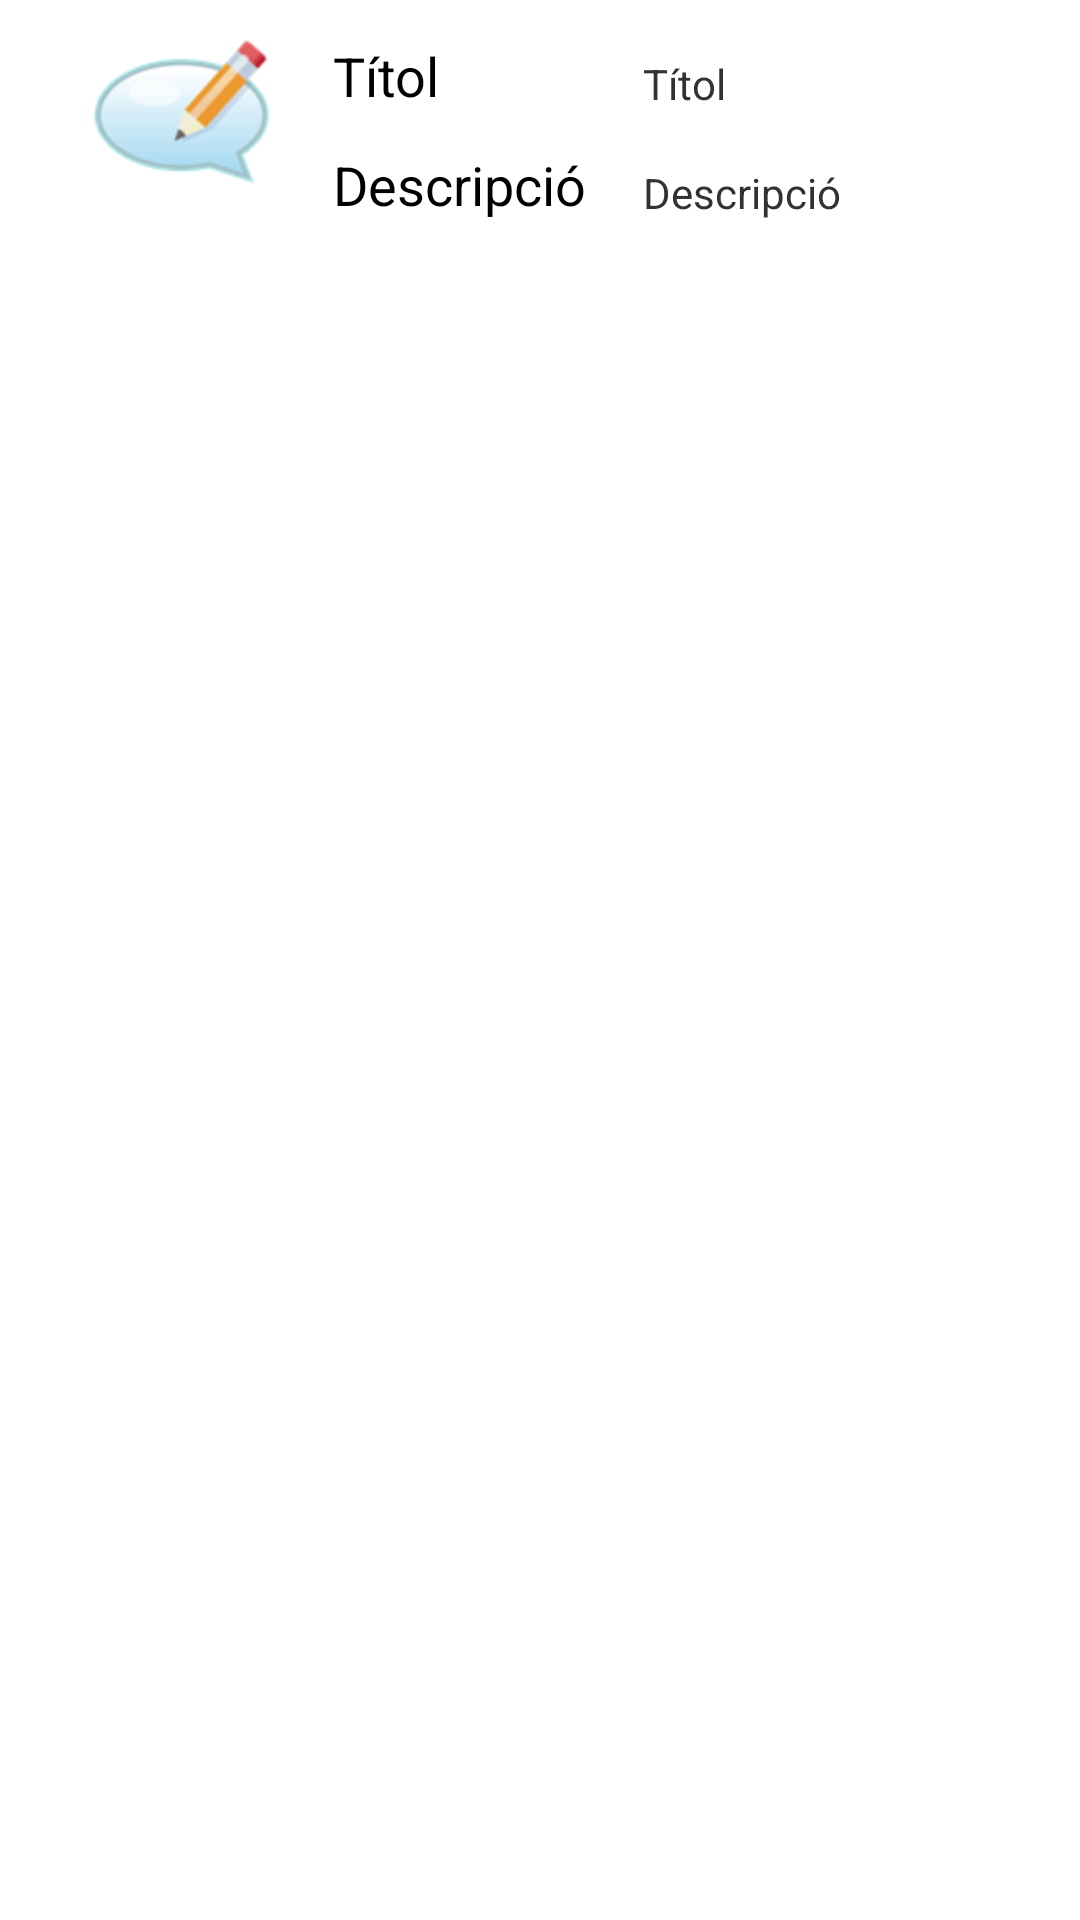

Named icons in this screenshot (1080×1920) and their bounding boxes, (x1, y1, x2, y2):
comentari: (94, 40, 269, 183)
